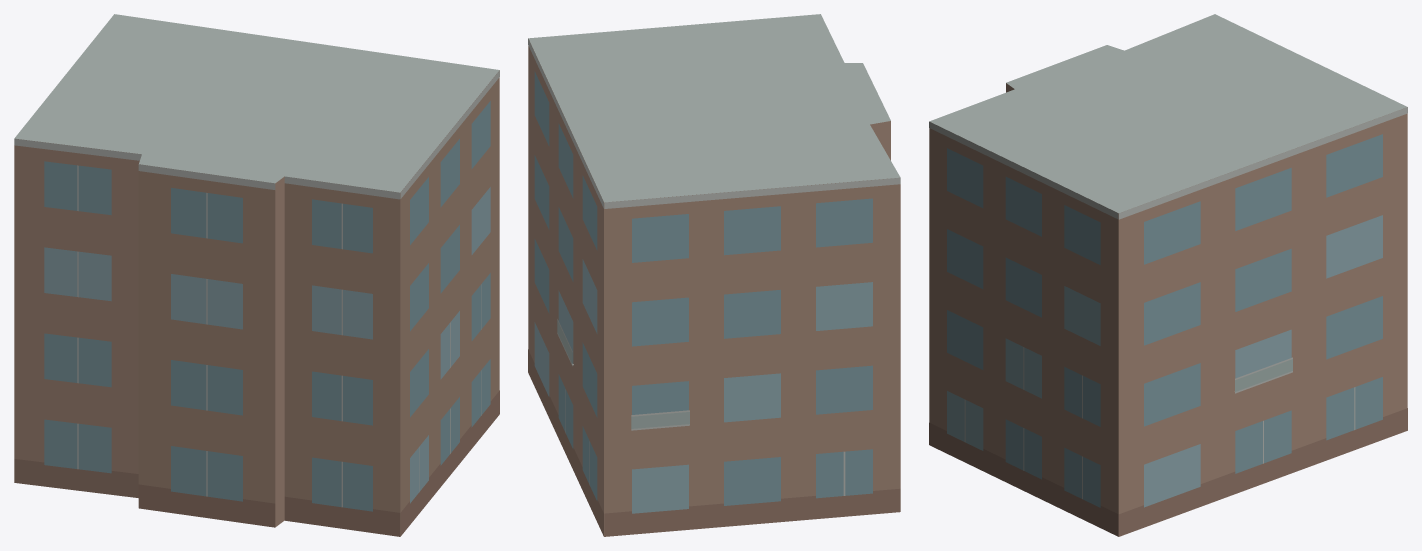
Rendered from survey-upis-33025094.glb.
3 views of the same model, side by side, from view 1: azimuth 30°, elevation 25°; view 2: azimuth 150°, elevation 25°; view 3: azimuth 270°, elevation 25° (orthographic). The views are drawn at different scales.
Parts seen in each view (by area): view 1: survey-upis-33025094.tmp; view 2: survey-upis-33025094.tmp; view 3: survey-upis-33025094.tmp.
Part boxes in pixels (x1,y1,x2,y2): survey-upis-33025094.tmp: (14,14,499,536); survey-upis-33025094.tmp: (528,14,900,536); survey-upis-33025094.tmp: (929,14,1407,536).
Size of the model in its own units: 16.25 by 12.3 by 16.5.
